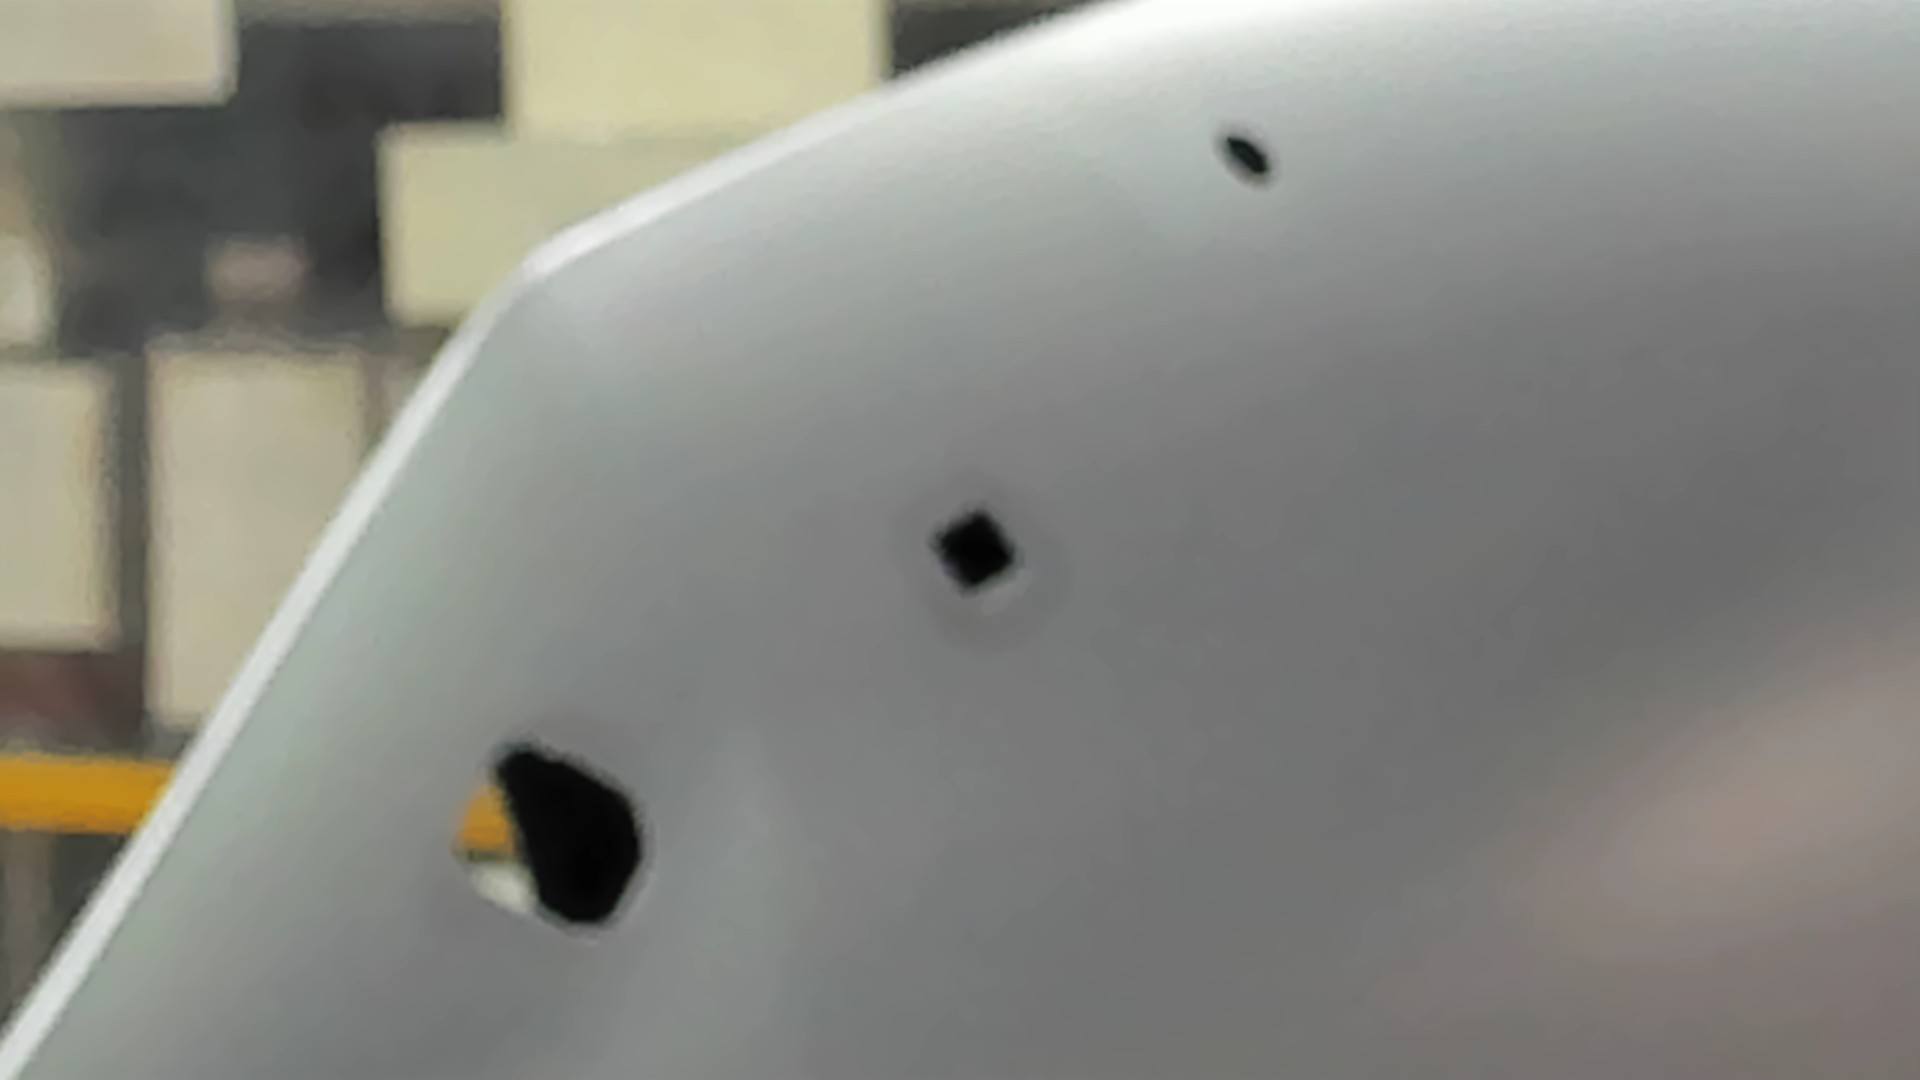chico: (1209, 117, 1284, 196)
grande: (440, 732, 655, 940)
mediano: (927, 504, 1025, 603)
